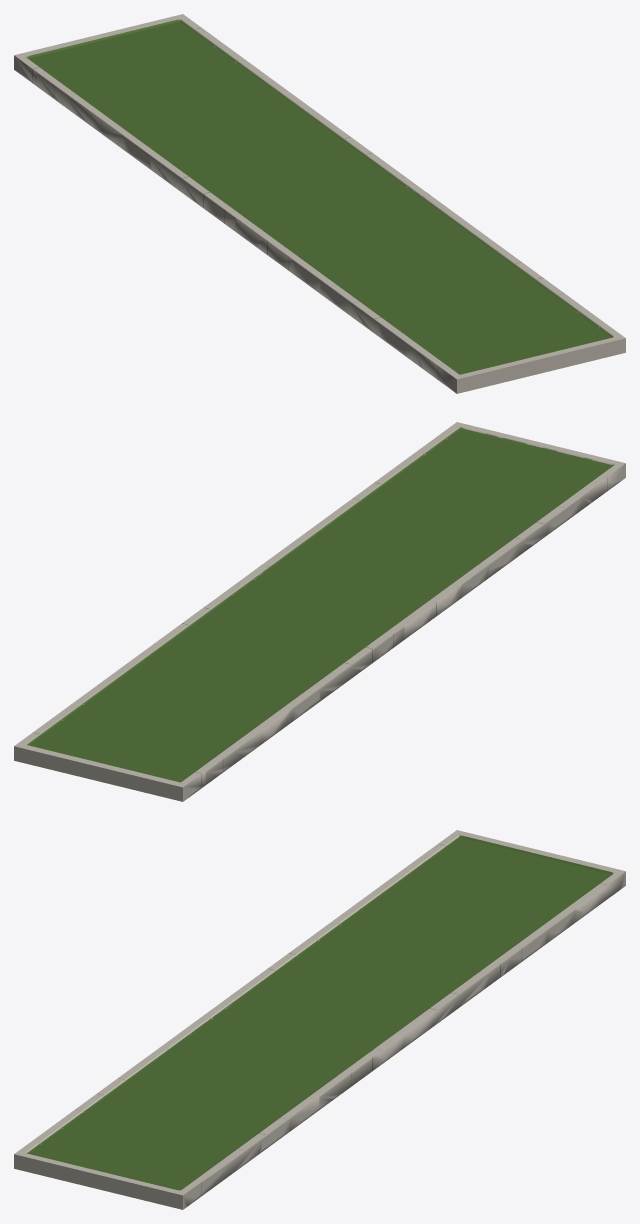
Rendered from bon_co_234797329.glb.
3 renders of one model, top to bottom at view 1: azimuth 30°, elevation 25°; view 2: azimuth 150°, elevation 25°; view 3: azimuth 330°, elevation 25°, orthographic.
Visible parts, largest first — view 1: drawing; view 2: drawing; view 3: drawing.
Boxes of the visible parts, x1,y1,x2,y2 form: drawing: [14, 14, 625, 393]; drawing: [14, 422, 625, 801]; drawing: [14, 830, 625, 1209].
Size of the model in its own units: 5.49 by 0.45 by 24.9.
Materials: 2 (2 with a texture image).
